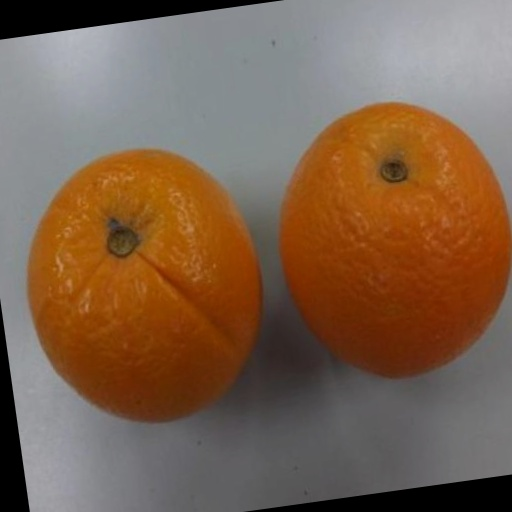fruit: (27, 150, 261, 421), (281, 103, 512, 377)
